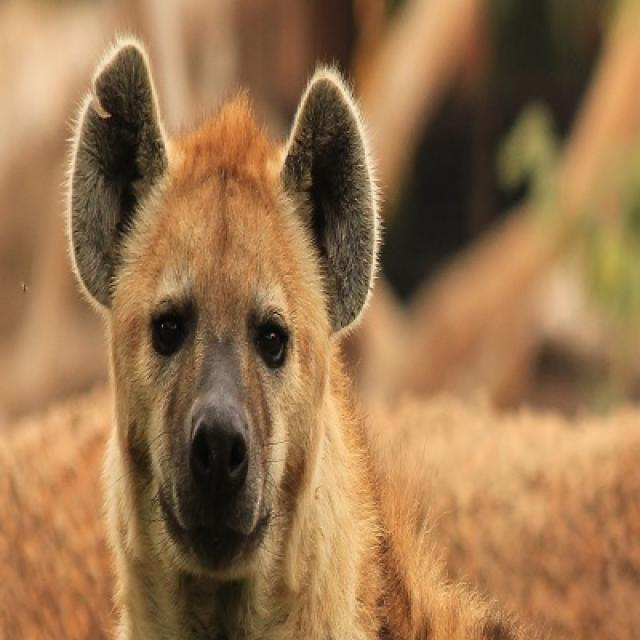hyena: (66, 38, 512, 638)
